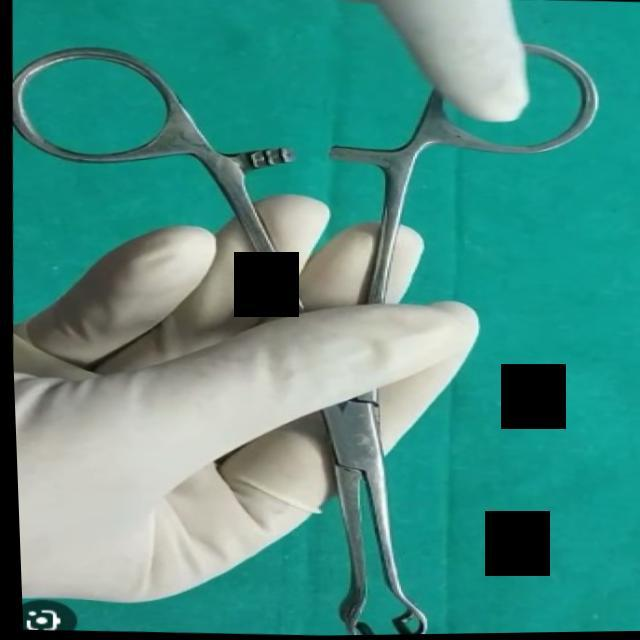Babcock Forceps: (1, 31, 622, 640)
